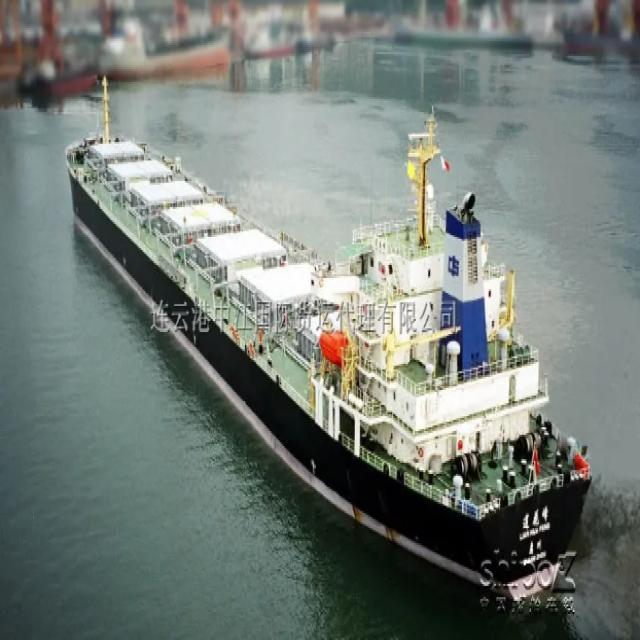cargoship: (61, 106, 596, 592)
